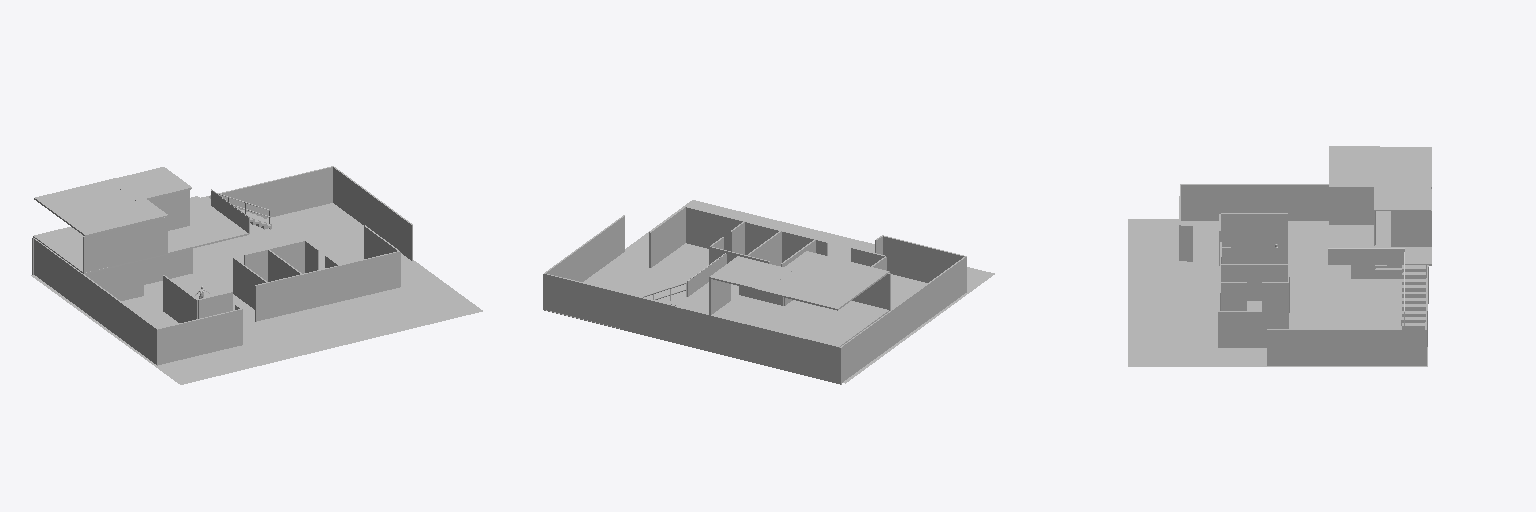
Rendered from apto3.obj.
3 renders of one model, left to right at view 1: azimuth 30°, elevation 25°; view 2: azimuth 150°, elevation 25°; view 3: azimuth 270°, elevation 25°, orthographic.
Parts seen in each view (by area): view 1: directionalLight6 polySurface98, directionalLight6 polySurface81, directionalLight6 polySurface84, directionalLight6 polySurface137, directionalLight6 polySurface92, directionalLight6 polySurface88, directionalLight6 polySurface104, directionalLight6 polySurface86, directionalLight6 polySurface100, directionalLight6 polySurface138, directionalLight6 polySurface83, directionalLight6 polySurface125 (+8 smaller); view 2: directionalLight6 polySurface88, directionalLight6 polySurface98, directionalLight6 polySurface92, directionalLight6 polySurface84, directionalLight6 polySurface137, directionalLight6 polySurface81, directionalLight6 polySurface100, directionalLight6 polySurface86, directionalLight6 polySurface138, directionalLight6 polySurface99, directionalLight6 polySurface104, polySurface79 directionalLight6 (+2 smaller); view 3: directionalLight6 polySurface98, directionalLight6 polySurface100, directionalLight6 polySurface84, directionalLight6 polySurface137, directionalLight6 polySurface89, directionalLight6 polySurface92, directionalLight6 polySurface99, directionalLight6 polySurface138, directionalLight6 polySurface127, polySurface79 directionalLight6, directionalLight6 polySurface126, directionalLight6 polySurface124 (+4 smaller).
Boxes of the visible parts, box(x1,y1,x2,y2) form: directionalLight6 polySurface98: box(31, 203, 482, 384); directionalLight6 polySurface81: box(255, 251, 400, 321); directionalLight6 polySurface84: box(34, 238, 158, 365); directionalLight6 polySurface137: box(34, 178, 167, 236); directionalLight6 polySurface92: box(33, 196, 248, 274); directionalLight6 polySurface88: box(32, 166, 332, 274); directionalLight6 polySurface104: box(83, 217, 167, 273); directionalLight6 polySurface86: box(158, 309, 240, 364); directionalLight6 polySurface100: box(332, 166, 412, 260); directionalLight6 polySurface138: box(108, 167, 191, 200); directionalLight6 polySurface83: box(83, 260, 143, 300); directionalLight6 polySurface125: box(144, 249, 192, 284); directionalLight6 polySurface88: box(543, 273, 841, 384); directionalLight6 polySurface98: box(546, 200, 994, 383); directionalLight6 polySurface92: box(675, 282, 890, 348); directionalLight6 polySurface84: box(841, 256, 966, 382); directionalLight6 polySurface137: box(755, 251, 889, 310); directionalLight6 polySurface81: box(685, 206, 827, 262); directionalLight6 polySurface100: box(544, 215, 624, 281); directionalLight6 polySurface86: box(883, 236, 964, 282); directionalLight6 polySurface138: box(709, 256, 792, 290); directionalLight6 polySurface99: box(649, 207, 685, 267); directionalLight6 polySurface104: box(852, 273, 890, 310); polySurface79 directionalLight6: box(747, 231, 781, 265); directionalLight6 polySurface98: box(1128, 219, 1427, 366); directionalLight6 polySurface100: box(1267, 329, 1425, 365); directionalLight6 polySurface84: box(1180, 184, 1328, 220); directionalLight6 polySurface137: box(1329, 146, 1431, 188); directionalLight6 polySurface89: box(1221, 213, 1287, 247); directionalLight6 polySurface92: box(1329, 189, 1431, 265); directionalLight6 polySurface99: box(1220, 311, 1288, 347); directionalLight6 polySurface138: box(1374, 182, 1430, 210); directionalLight6 polySurface127: box(1329, 188, 1373, 224); polySurface79 directionalLight6: box(1221, 264, 1287, 300); directionalLight6 polySurface126: box(1391, 210, 1431, 246); directionalLight6 polySurface124: box(1328, 249, 1404, 264).
Size of the model in its own units: 2544 by 615 by 2214.